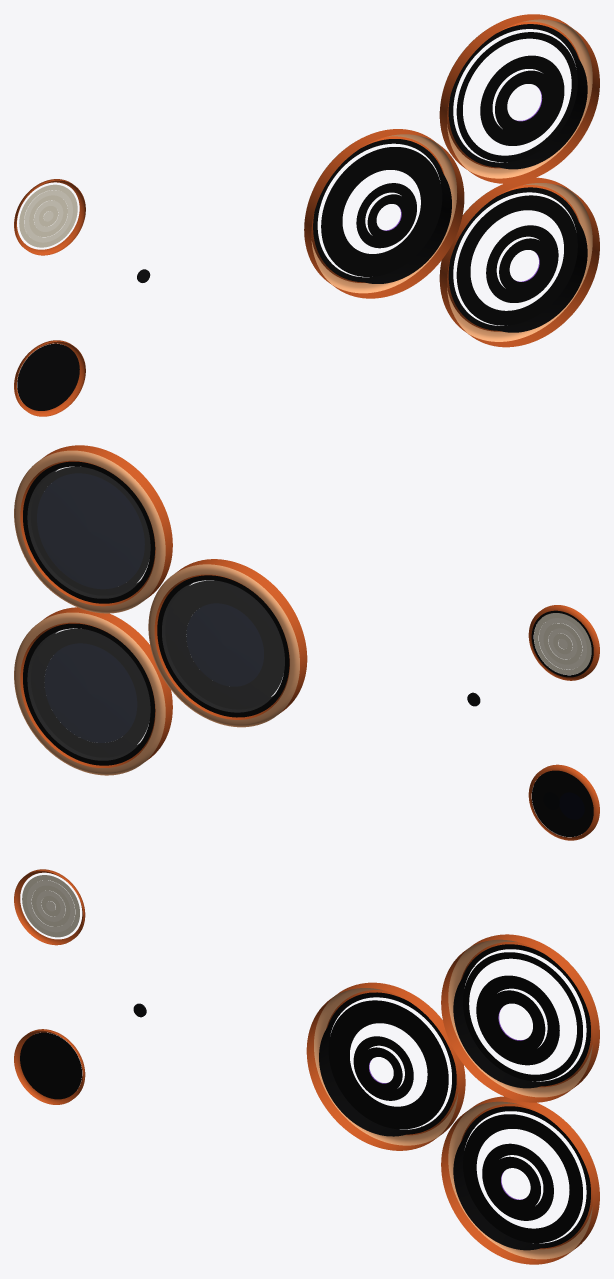
Rendered from cameras.glb.
3 views of the same model, one above another, from view 1: azimuth 30°, elevation 25°; view 2: azimuth 150°, elevation 25°; view 3: azimuth 330°, elevation 25° (orthographic).
Visible parts, largest first — view 1: cameras; view 2: cameras; view 3: cameras.
Boxes of the visible parts, x1=… form: cameras: x1=14, y1=14, x2=599, y2=416; cameras: x1=14, y1=445, x2=599, y2=840; cameras: x1=14, y1=869, x2=599, y2=1264.
Size of the model in its own units: 0.379 by 0.2007 by 0.0143.
